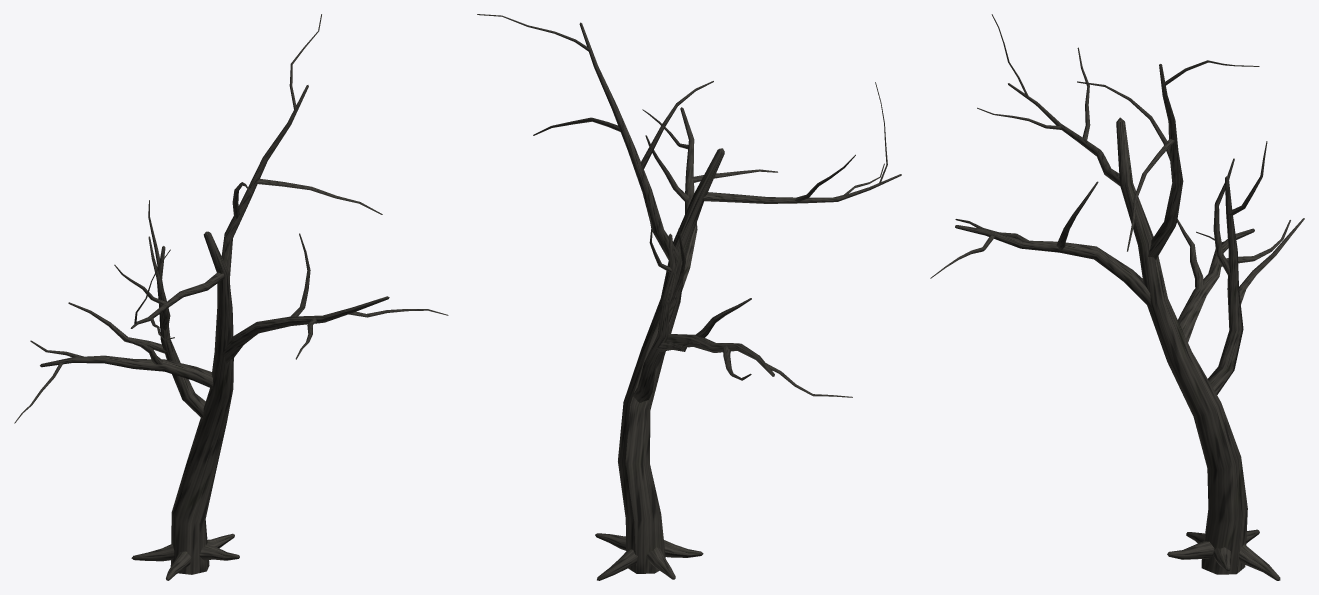
Rendered from GnarledDeadTree_2_LOD1.gltf.
The picture shows the model from 3 angles, left to right: view 1: azimuth 30°, elevation 25°; view 2: azimuth 150°, elevation 25°; view 3: azimuth 270°, elevation 25°; orthographic projection. The views are drawn at different scales.
Visible parts, largest first — view 1: GnarledDeadTree_2_LOD1; view 2: GnarledDeadTree_2_LOD1; view 3: GnarledDeadTree_2_LOD1.
Part boxes in pixels (bbox=[...]): GnarledDeadTree_2_LOD1: bbox=[14, 14, 448, 580]; GnarledDeadTree_2_LOD1: bbox=[477, 14, 901, 580]; GnarledDeadTree_2_LOD1: bbox=[930, 14, 1304, 580].
Size of the model in its own units: 9.37 by 13.48 by 7.82.
1 material, 1 textured.
